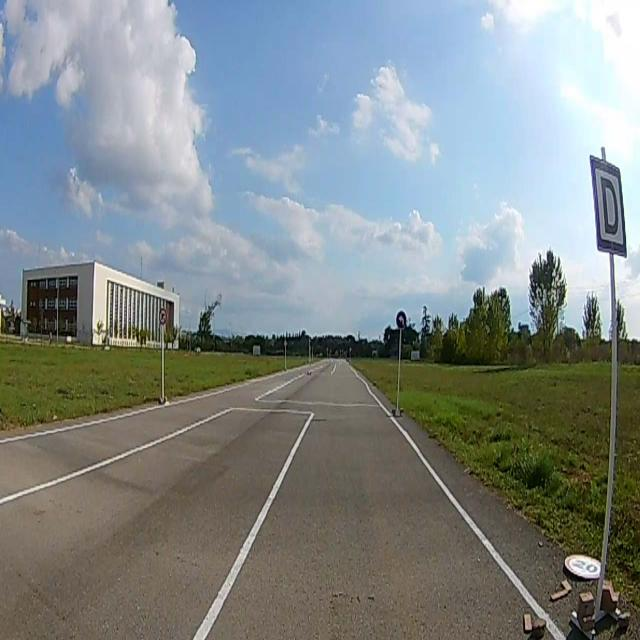durak: (589, 154, 627, 257)
sagadonulmez: (159, 308, 166, 324)
sol: (396, 312, 406, 329)
